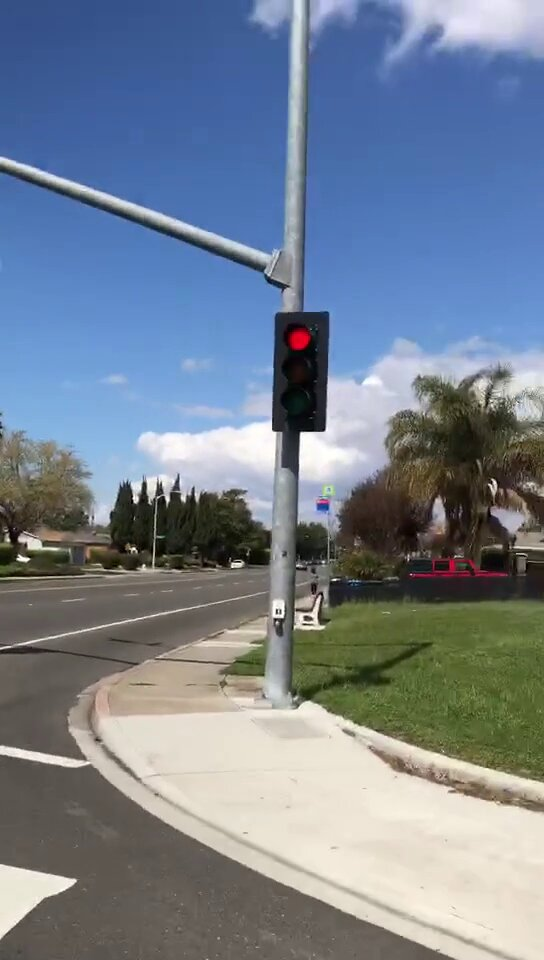red_light: (276, 315, 326, 428)
